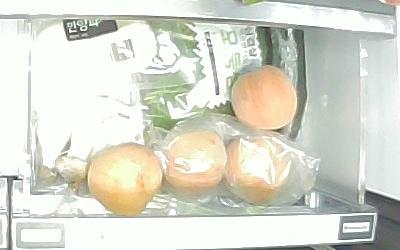peach: (87, 142, 162, 217), (230, 67, 298, 129)
peach_vinyl: (226, 136, 293, 206), (165, 129, 227, 193)
